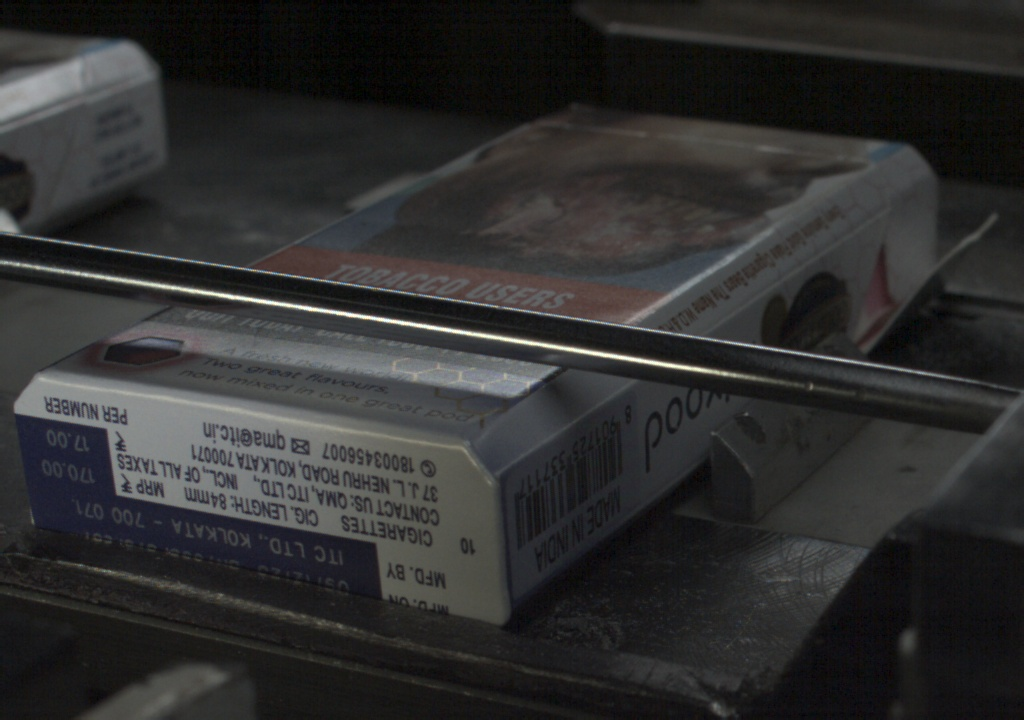g_bottom: (12, 373, 511, 628)
g_label: (28, 490, 382, 601)
g_lmiter: (707, 264, 798, 329), (797, 215, 879, 267), (562, 382, 631, 432), (499, 432, 562, 475)
ng_miter: (885, 177, 976, 265)
price: (20, 423, 110, 488)
